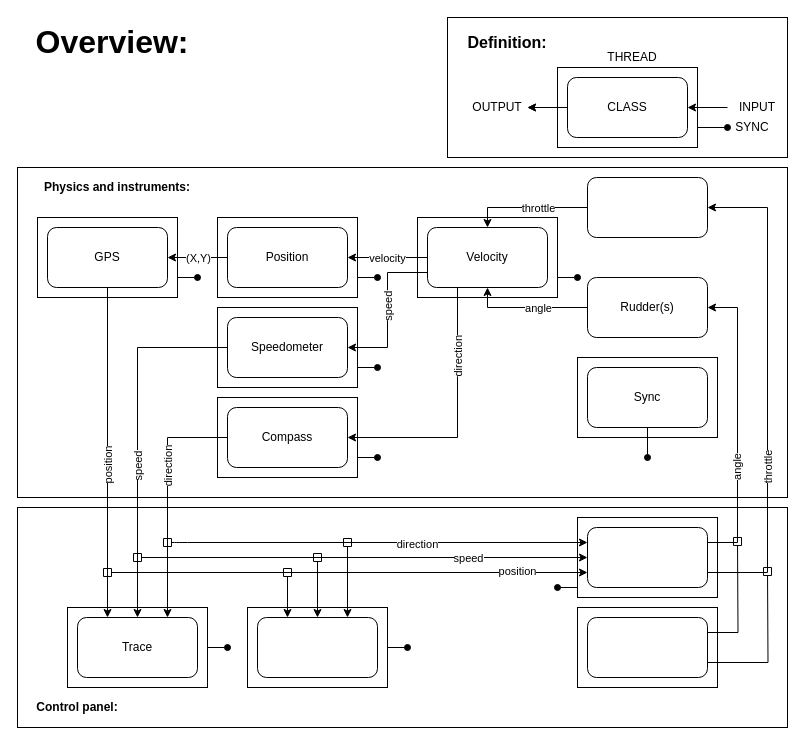
Some shapes in this 805 by 745 pixel diagram are drawn without their labels. Each missing label, with the centre of its shape:
"Autopilot" goes at (x=647, y=557).
"Chart" goes at (x=317, y=647).
"Manual" goes at (x=647, y=647).
"Motor(s)" goes at (x=647, y=207).
